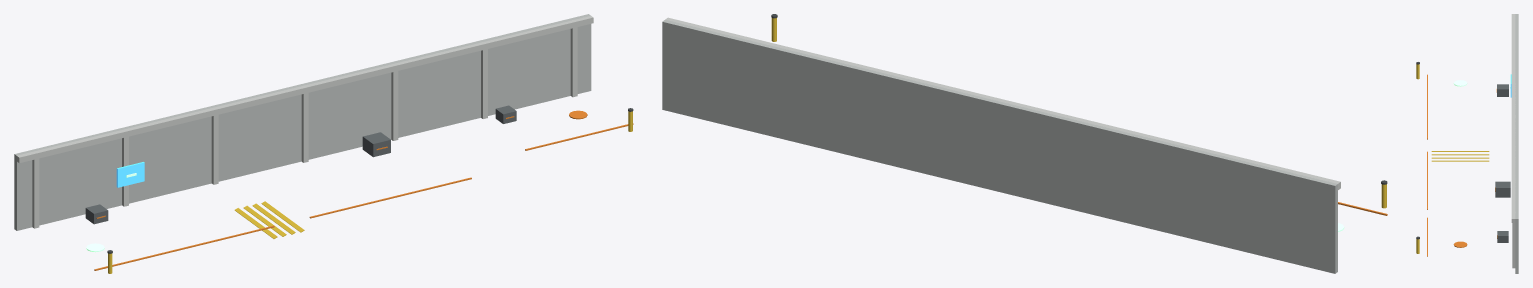
The model's file is central_belt_stage01_demo_field_v1.glb.
The picture shows the model from 3 angles, left to right: view 1: azimuth 30°, elevation 25°; view 2: azimuth 150°, elevation 25°; view 3: azimuth 270°, elevation 25°; orthographic projection. The views are drawn at different scales.
Parts seen in each view (by area): view 1: VIS_BACKGROUND_WALL, VIS_WALL_BEAM_TOP, VIS_SERVICE_CRATE_02, VIS_OPERATION_PANEL, VIS_WALL_COLUMN_+05, VIS_WALL_COLUMN_+15, VIS_WALL_COLUMN_-15, VIS_WALL_COLUMN_-05, VIS_WALL_COLUMN_+00, VIS_WALL_COLUMN_+10, VIS_SAFE_EDGE_01, VIS_SAFE_EDGE_02 (+1 smaller); view 2: VIS_BACKGROUND_WALL, VIS_WALL_BEAM_TOP; view 3: VIS_BACKGROUND_WALL, VIS_WALL_BEAM_TOP, VIS_SERVICE_CRATE_02, VIS_WALL_COLUMN_+15, VIS_SERVICE_CRATE_01, VIS_SERVICE_CRATE_03, VIS_GAP_HAZARD_-4.25, VIS_GAP_HAZARD_-3.75, VIS_GAP_HAZARD_-3.25, MARKER_PLAYER_SPAWN, MARKER_GOAL.
Part boxes in pixels (bbox=[...]): VIS_BACKGROUND_WALL: bbox=[14, 14, 591, 230]; VIS_WALL_BEAM_TOP: bbox=[17, 16, 593, 163]; VIS_SERVICE_CRATE_02: bbox=[362, 132, 390, 157]; VIS_OPERATION_PANEL: bbox=[116, 162, 144, 187]; VIS_WALL_COLUMN_+05: bbox=[391, 63, 398, 140]; VIS_WALL_COLUMN_+15: bbox=[570, 19, 577, 97]; VIS_WALL_COLUMN_-15: bbox=[32, 151, 39, 228]; VIS_WALL_COLUMN_-05: bbox=[211, 107, 218, 184]; VIS_WALL_COLUMN_+00: bbox=[301, 85, 308, 162]; VIS_WALL_COLUMN_+10: bbox=[481, 41, 487, 118]; VIS_SAFE_EDGE_01: bbox=[94, 225, 274, 270]; VIS_SAFE_EDGE_02: bbox=[309, 177, 471, 218]; VIS_BACKGROUND_WALL: bbox=[662, 19, 1337, 273]; VIS_WALL_BEAM_TOP: bbox=[665, 17, 1340, 190]; VIS_BACKGROUND_WALL: bbox=[1515, 14, 1518, 273]; VIS_WALL_BEAM_TOP: bbox=[1511, 14, 1515, 222]; VIS_SERVICE_CRATE_02: bbox=[1495, 181, 1510, 197]; VIS_WALL_COLUMN_+15: bbox=[1512, 211, 1515, 268]; VIS_SERVICE_CRATE_01: bbox=[1497, 84, 1508, 96]; VIS_SERVICE_CRATE_03: bbox=[1497, 231, 1508, 242]; VIS_GAP_HAZARD_-4.25: bbox=[1431, 154, 1489, 155]; VIS_GAP_HAZARD_-3.75: bbox=[1431, 157, 1489, 158]; VIS_GAP_HAZARD_-3.25: bbox=[1431, 160, 1489, 161]; MARKER_PLAYER_SPAWN: bbox=[1453, 80, 1467, 86]; MARKER_GOAL: bbox=[1453, 241, 1467, 247].
Size of what is drawn, in the model's own units: 32 by 4.82 by 6.77.
